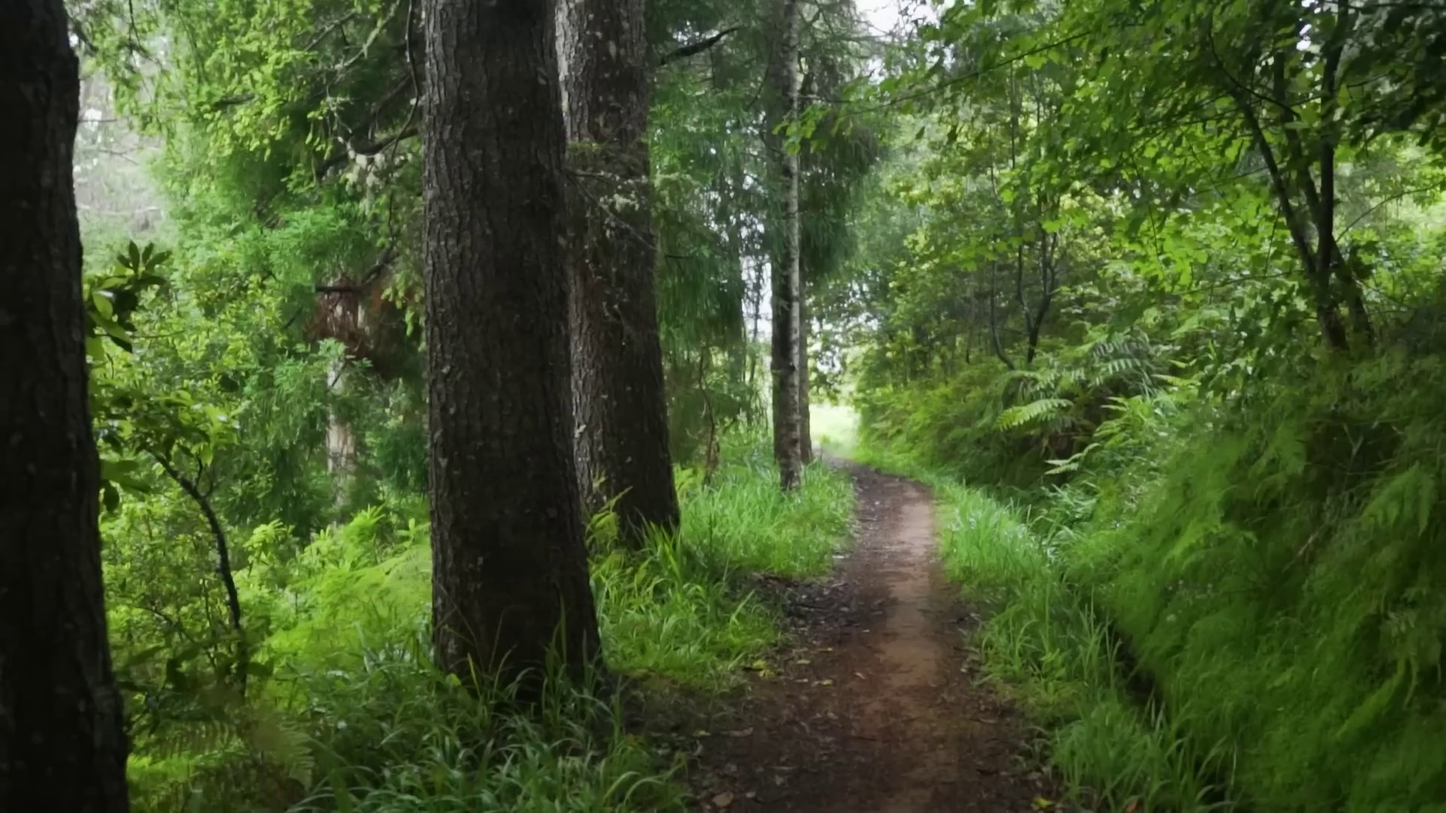tree: (417, 0, 678, 680), (0, 0, 127, 812), (767, 0, 810, 490), (772, 178, 800, 482), (407, 0, 425, 105), (777, 21, 796, 115)
